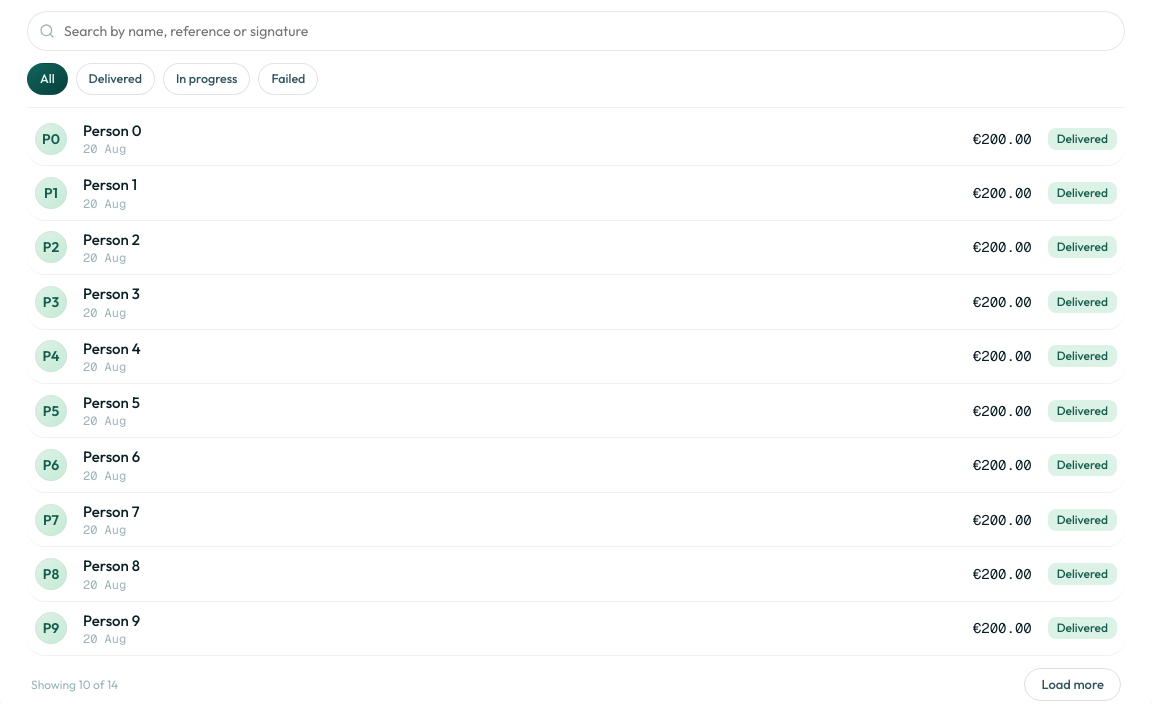
TransferHistory › Load more appends the next page and disappears at the end
The image size is (1152, 704).
Expected: the text "Person 0" is shown, [83,121,142,140]
Expected: the text "Person 12" is not shown
Click the button "Load more" at (1073, 684), box [1024,668,1121,701]
(page scrolled)
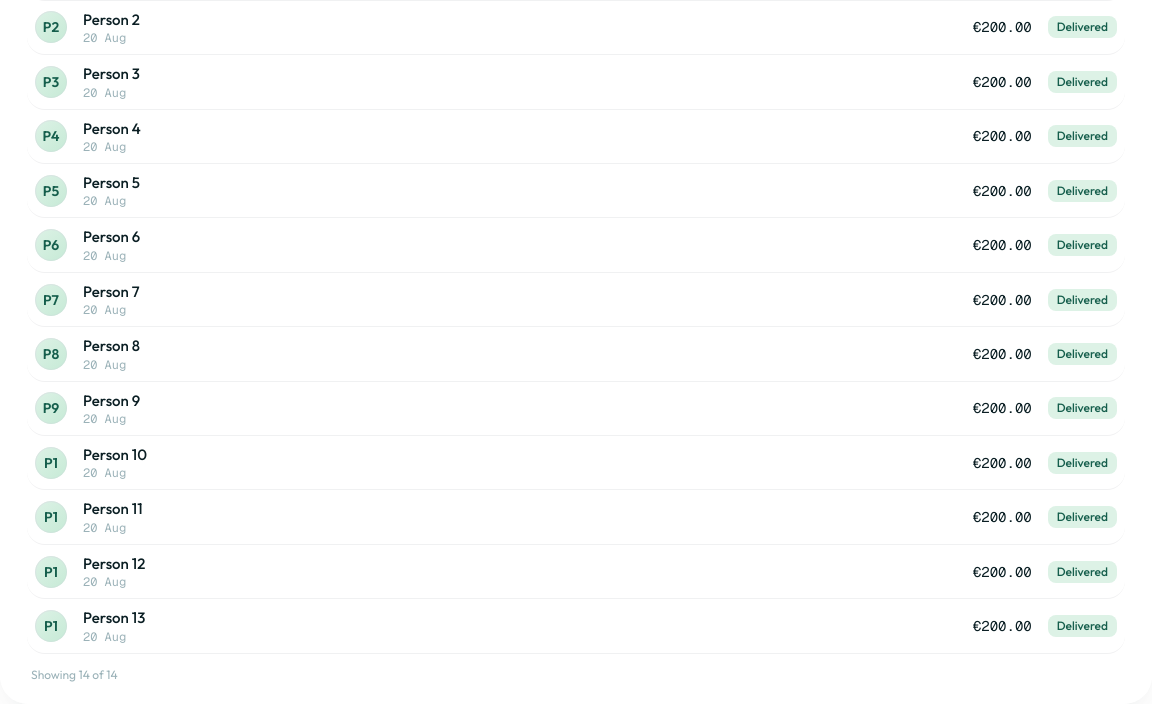
Expected: the text "Person 13" is shown, [83,608,145,627]
Expected: the text "Showing 14 of 14" is shown, [31,666,118,683]
Expected: the button "Load more" is gone
